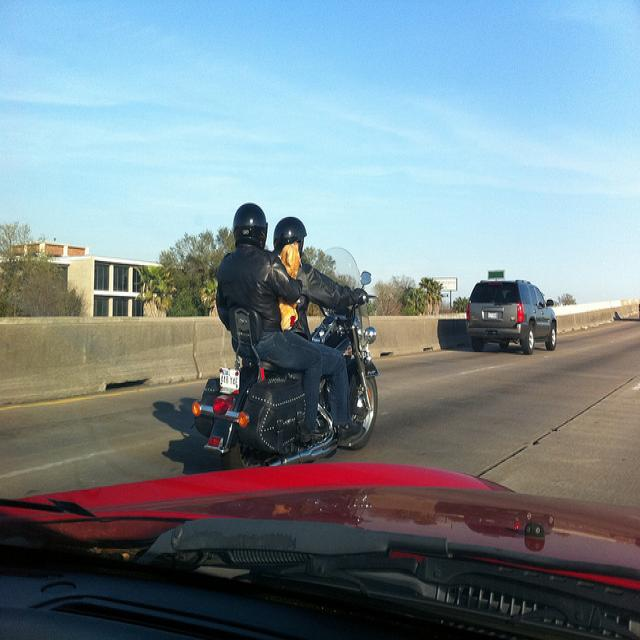motor: (201, 253, 383, 472)
